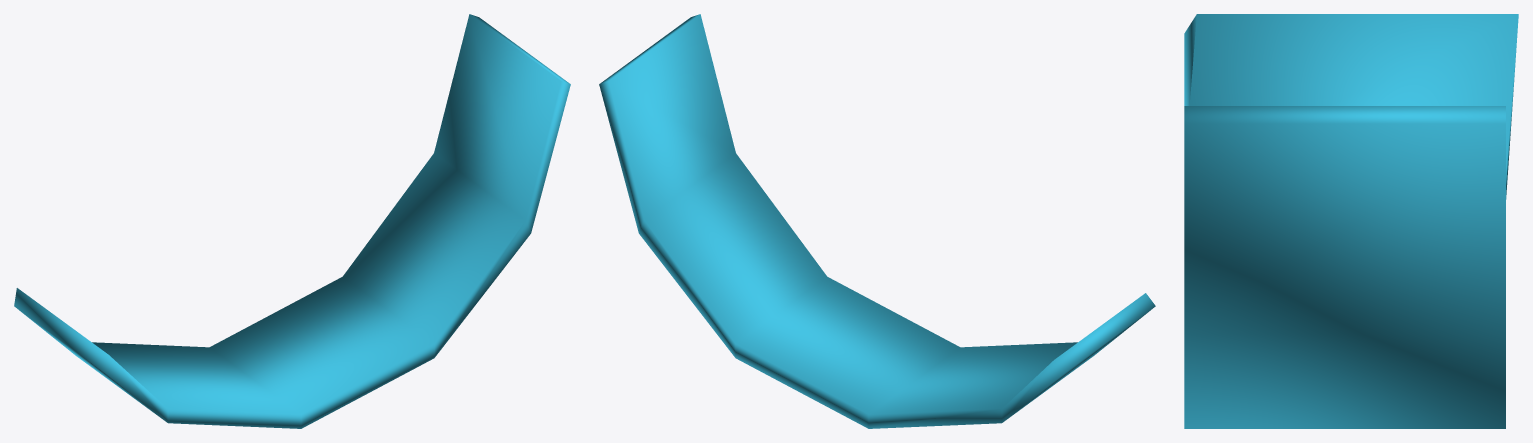
The model's file is glass6.fbx.
The picture shows the model from 3 angles, left to right: view 1: azimuth 30°, elevation 25°; view 2: azimuth 150°, elevation 25°; view 3: azimuth 270°, elevation 25°; orthographic projection. The views are drawn at different scales.
Visible parts, largest first — view 1: Plane_000; view 2: Plane_000; view 3: Plane_000.
Boxes of the visible parts, left/top/right/bottom form: Plane_000: left=14, top=14, right=570, bottom=428; Plane_000: left=599, top=14, right=1155, bottom=428; Plane_000: left=1184, top=14, right=1518, bottom=428.
Bounding box in the file's own units: 13.45 × 7.86 × 4.78.
Materials: 1 (1 with a texture image).
